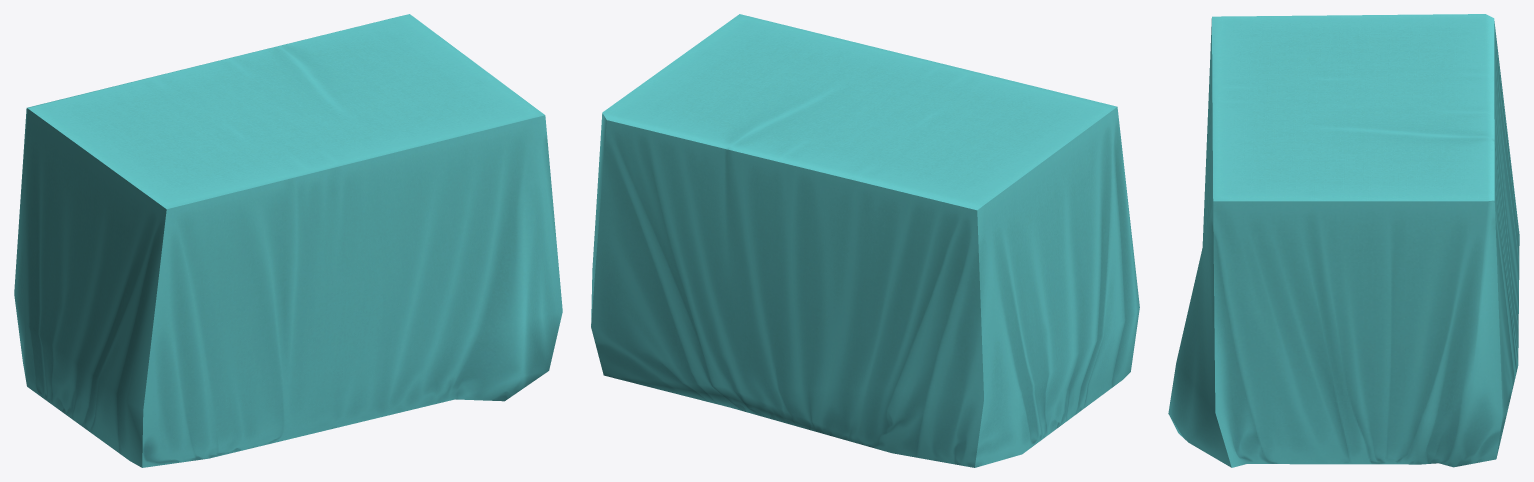
The model's file is Pfb_Box_GRP__15.fbx.
3 renders of one model, left to right at view 1: azimuth 30°, elevation 25°; view 2: azimuth 150°, elevation 25°; view 3: azimuth 270°, elevation 25°, orthographic.
Parts seen in each view (by area): view 1: MAT_Canvas_02_Blue_Smooth; view 2: MAT_Canvas_02_Blue_Smooth; view 3: MAT_Canvas_02_Blue_Smooth.
Boxes of the visible parts, x1,y1,x2,y2 form: MAT_Canvas_02_Blue_Smooth: (14,14,562,467); MAT_Canvas_02_Blue_Smooth: (591,14,1139,467); MAT_Canvas_02_Blue_Smooth: (1168,14,1519,467).
Size of the model in its own units: 2.65 by 1.54 by 1.88.
Materials: 1 (1 with a texture image).
